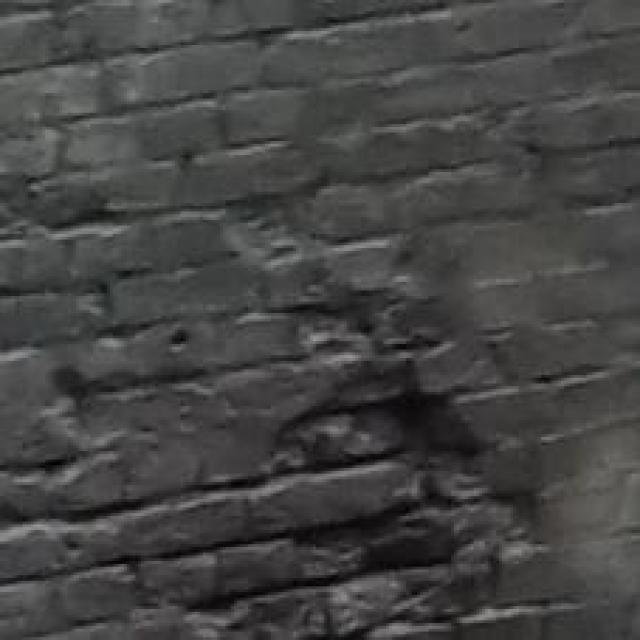Crack: (248, 276, 517, 640)
